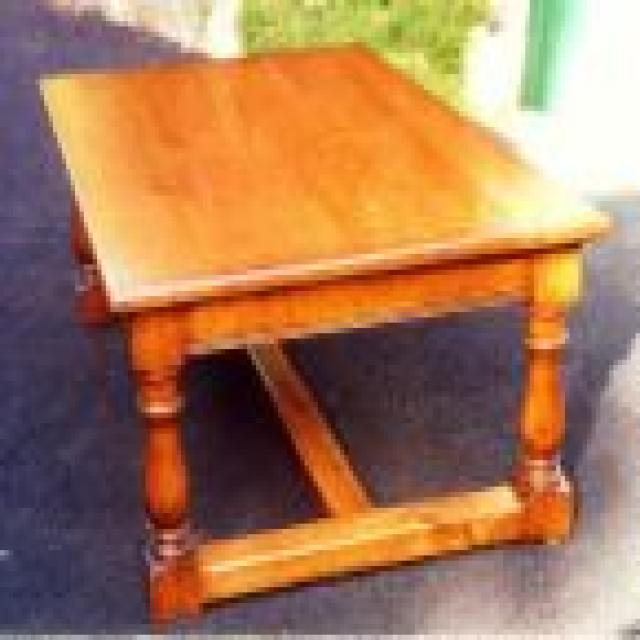table: (28, 28, 615, 629)
